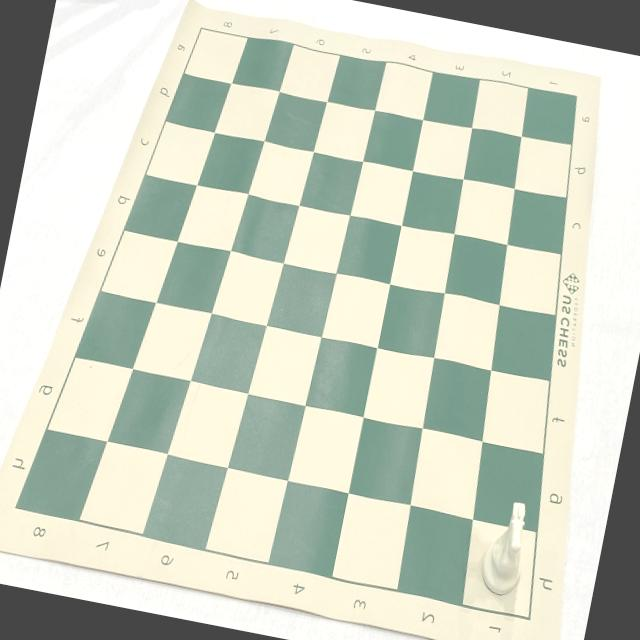white-knight: (474, 498, 534, 600)
